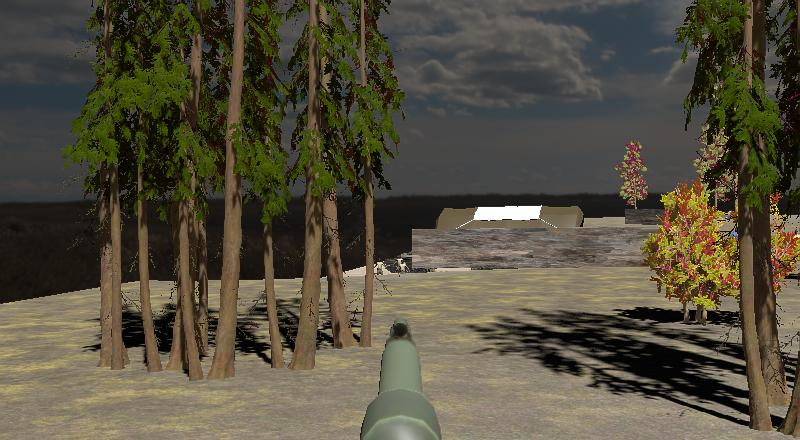Tank: (378, 252, 437, 275)
